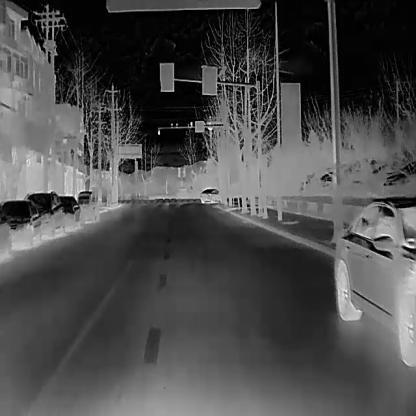car: (333, 196, 416, 367), (0, 197, 40, 250), (25, 191, 62, 237), (56, 194, 79, 233), (77, 190, 98, 224), (198, 186, 219, 205)
